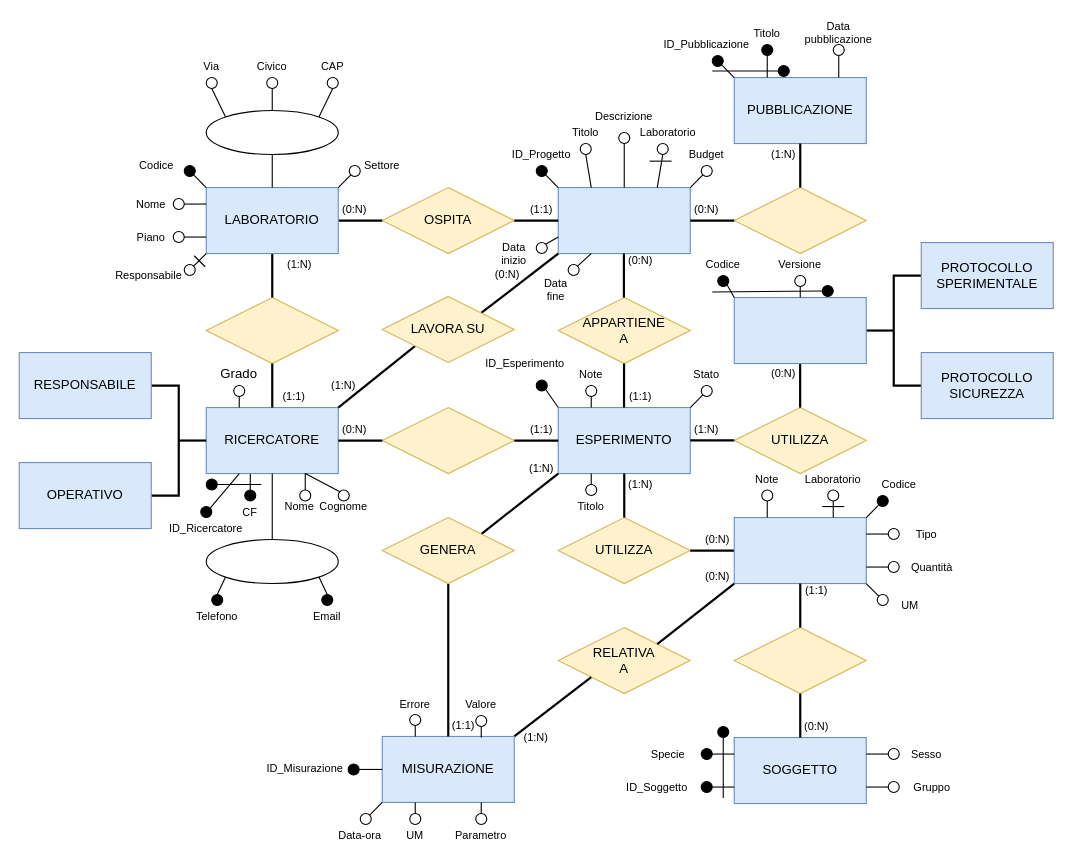
This 1073x865 diagram has some shape labels left out. The shapes that lost their labels are listed below. From the top down, each one's centre as x and y in pixels, then its label:
At point (271, 132): "INDIRIZZO".
At point (623, 220): "PROGETTO SCIENTIFICO".
At point (799, 220): "DERIVA".
At point (271, 330): "IMPIEGA".
At point (799, 330): "PROTOCOLLO".
At point (447, 440): "CONDUCE".
At point (271, 561): "CONTATTI".
At point (799, 550): "CAMPIONE".
At point (799, 660): "FORNISCE".
